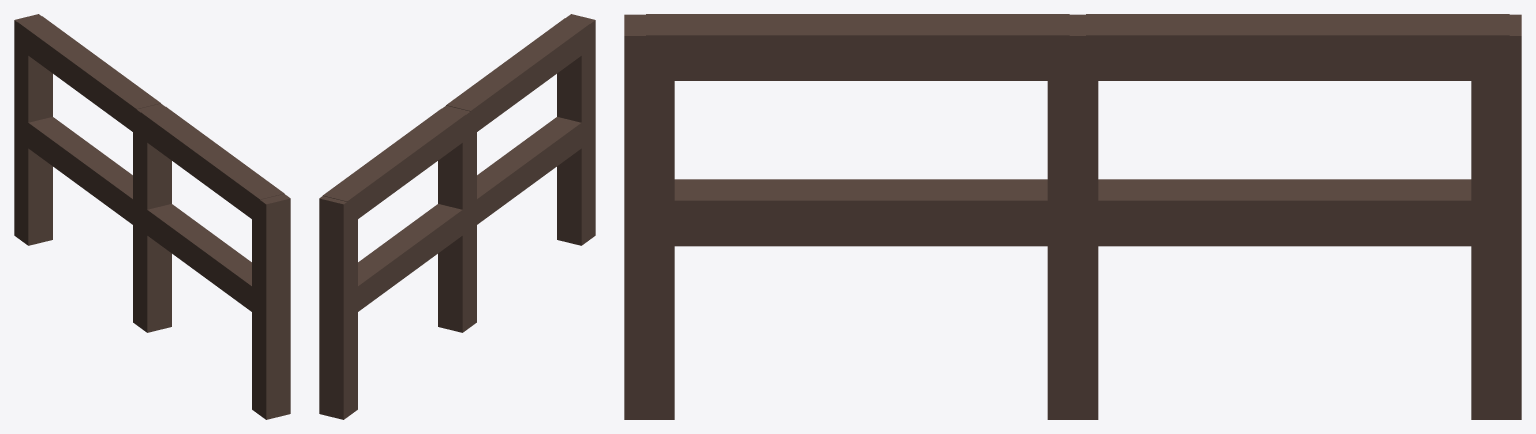
The model's file is PB_wood Fence.fbx.
The picture shows the model from 3 angles, left to right: view 1: azimuth 30°, elevation 25°; view 2: azimuth 150°, elevation 25°; view 3: azimuth 270°, elevation 25°; orthographic projection. The views are drawn at different scales.
Visible parts, largest first — view 1: PB_WoodFence; view 2: PB_WoodFence; view 3: PB_WoodFence.
Boxes of the visible parts, bbox=[...] form: PB_WoodFence: bbox=[14, 14, 290, 419]; PB_WoodFence: bbox=[319, 14, 595, 419]; PB_WoodFence: bbox=[624, 14, 1521, 419].
Size of the model in its own units: 11.92 by 100 by 212.
